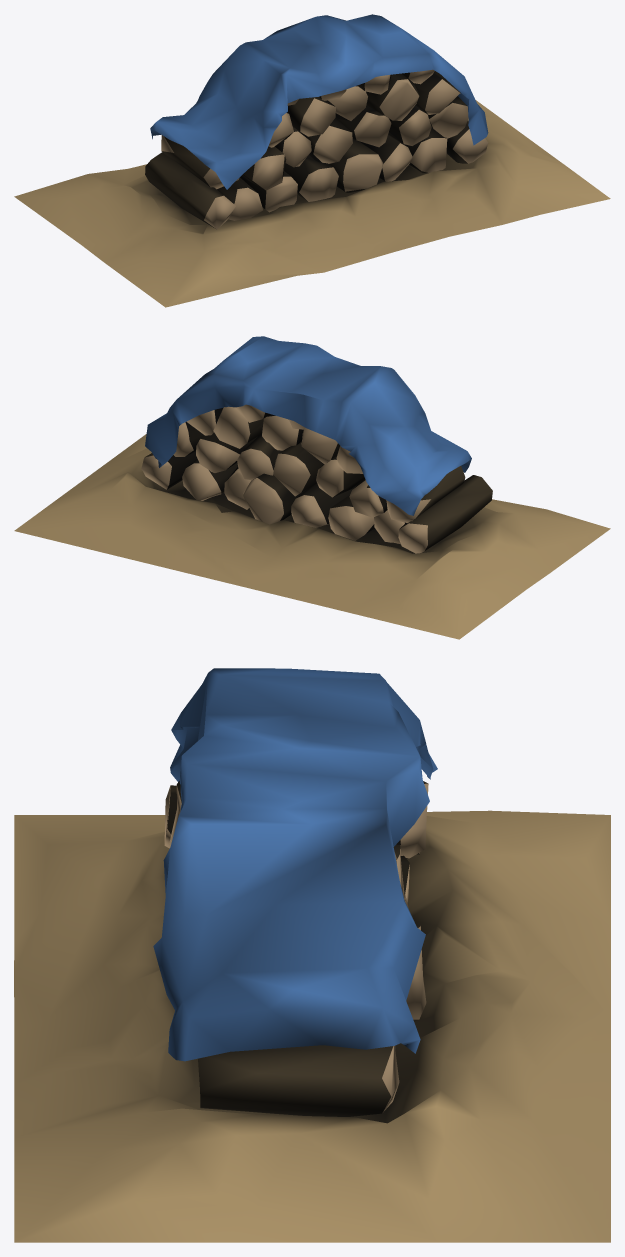
The model's file is Wood_Pile.fbx.
3 views of the same model, one above another, from view 1: azimuth 30°, elevation 25°; view 2: azimuth 150°, elevation 25°; view 3: azimuth 270°, elevation 25° (orthographic). The views are drawn at different scales.
Parts seen in each view (by area): view 1: Wood_Pile; view 2: Wood_Pile; view 3: Wood_Pile.
Boxes of the visible parts, x1,y1,x2,y2 form: Wood_Pile: (14, 14, 610, 307); Wood_Pile: (14, 336, 610, 639); Wood_Pile: (14, 668, 610, 1242).
Size of the model in its own units: 0.2317 by 0.0803 by 0.1367.
